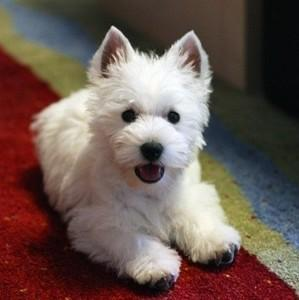dog: (26, 21, 246, 293)
